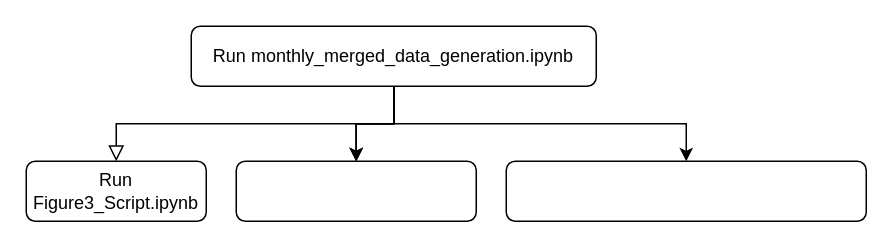
The diagram is 893 pixels wide and 248 high, and some of its shapes have lost their labels. The box of each missing label's shape, as (x1, y1, x2, y2) in pixels:
Run spatial_temporal_means_heatmaps.ipynb: (505, 160, 866, 221)
Run tercile_hitrate_monthly.ipynb: (235, 160, 476, 221)
